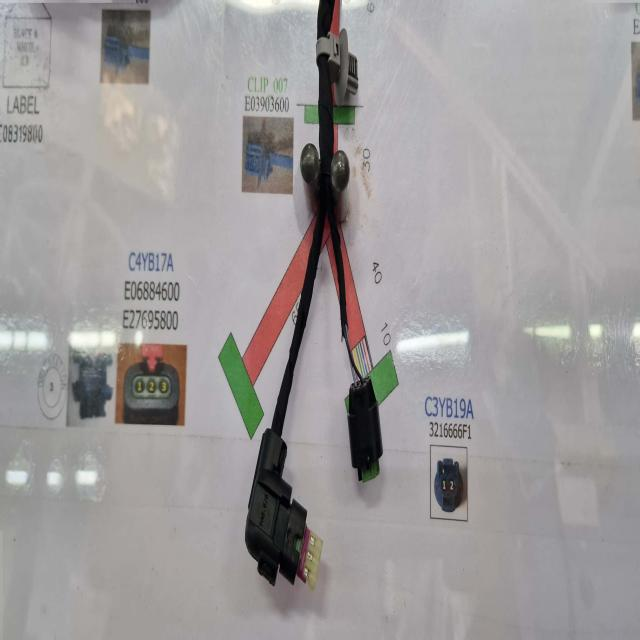Clip: (314, 27, 358, 103)
Connector: (243, 426, 322, 590), (346, 376, 382, 483)
Gape: (339, 320, 366, 386)
MHEV_N11_Cable: (272, 45, 350, 433), (320, 0, 339, 57)
